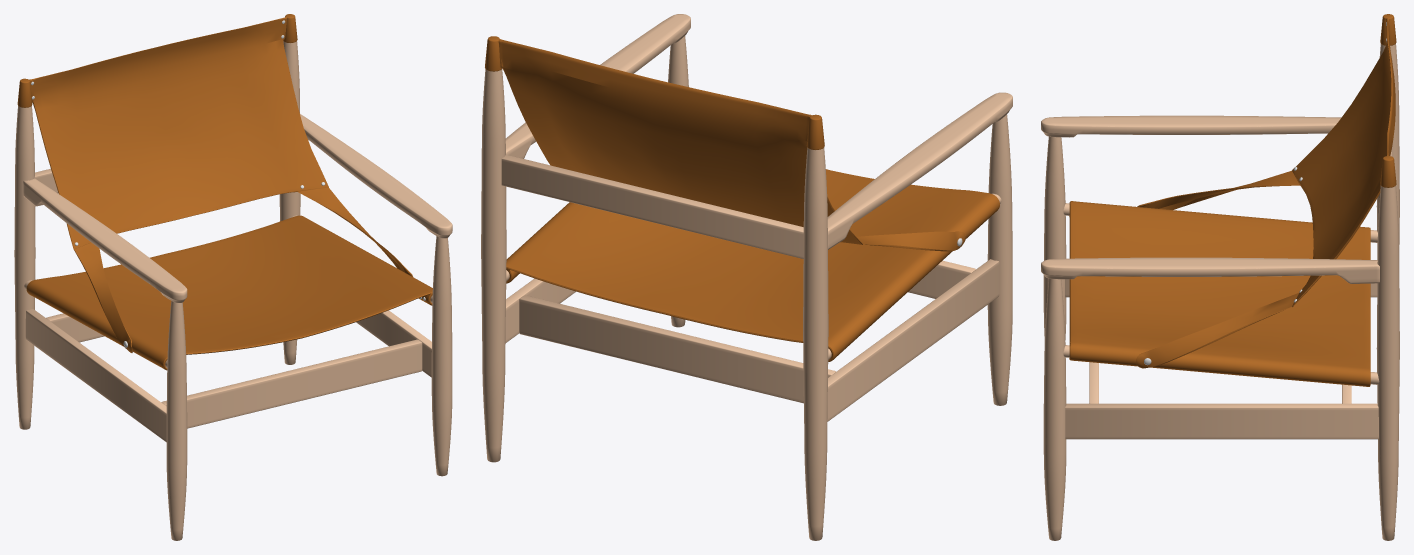
Rendered from trebbiano-poltrona.glb.
3 views of the same model, side by side, from view 1: azimuth 30°, elevation 25°; view 2: azimuth 150°, elevation 25°; view 3: azimuth 270°, elevation 25° (orthographic). The views are drawn at different scales.
Visible parts, largest first — view 1: Montana_ch; view 2: Montana_ch; view 3: Montana_ch.
Part boxes in pixels (x1,y1,x2,y2): Montana_ch: (14,14,452,540); Montana_ch: (481,14,1012,540); Montana_ch: (1041,14,1399,540).
Size of the model in its own units: 0.7604 by 0.8809 by 0.7513.
